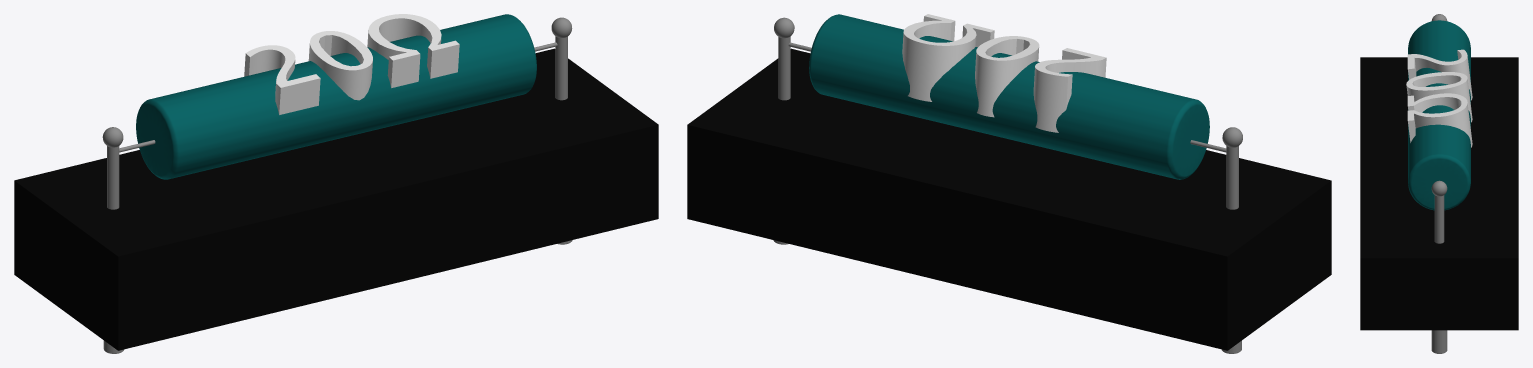
3 views of the same model, side by side, from view 1: azimuth 30°, elevation 25°; view 2: azimuth 150°, elevation 25°; view 3: azimuth 270°, elevation 25° (orthographic). The views are drawn at different scales.
Parts seen in each view (by area): view 1: pCube1, pCylinder1, typeMesh1, pCylinder3, pasted__pCylinder3; view 2: pCube1, pCylinder1, typeMesh1, pCylinder3, pasted__pCylinder3; view 3: pCube1, pCylinder1, typeMesh1, pasted__pCylinder3, pasted__pCylinder4, pasted__pSphere1.
Part boxes in pixels (x1,y1,x2,y2): pCube1: [14, 48, 658, 350]; pCylinder1: [136, 14, 536, 179]; typeMesh1: [244, 14, 459, 114]; pCylinder3: [107, 146, 119, 209]; pasted__pCylinder3: [555, 36, 567, 100]; pCube1: [687, 48, 1331, 350]; pCylinder1: [809, 14, 1209, 179]; typeMesh1: [902, 14, 1106, 132]; pCylinder3: [1226, 146, 1238, 209]; pasted__pCylinder3: [778, 36, 790, 100]; pCube1: [1360, 57, 1518, 330]; pCylinder1: [1408, 20, 1470, 210]; typeMesh1: [1406, 49, 1472, 147]; pasted__pCylinder3: [1434, 195, 1444, 243]; pasted__pCylinder4: [1431, 330, 1447, 353]; pasted__pSphere1: [1431, 180, 1447, 196].
Bounding box in the file's own units: 0.03 × 0.0132 × 0.01.
